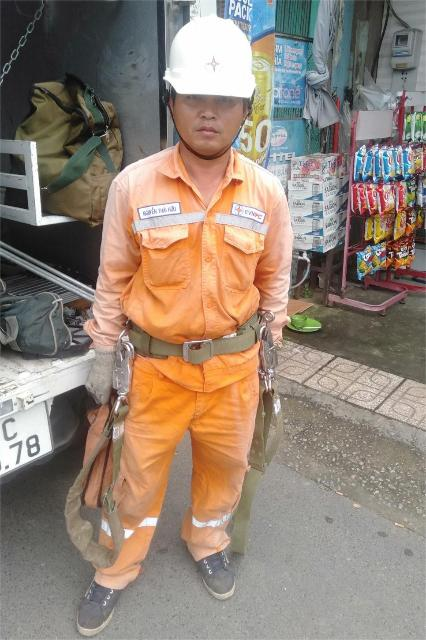gloves: (78, 346, 132, 407)
harness: (117, 305, 277, 384)
helmet: (156, 16, 257, 104)
shoes: (174, 540, 259, 604), (71, 558, 131, 635)
